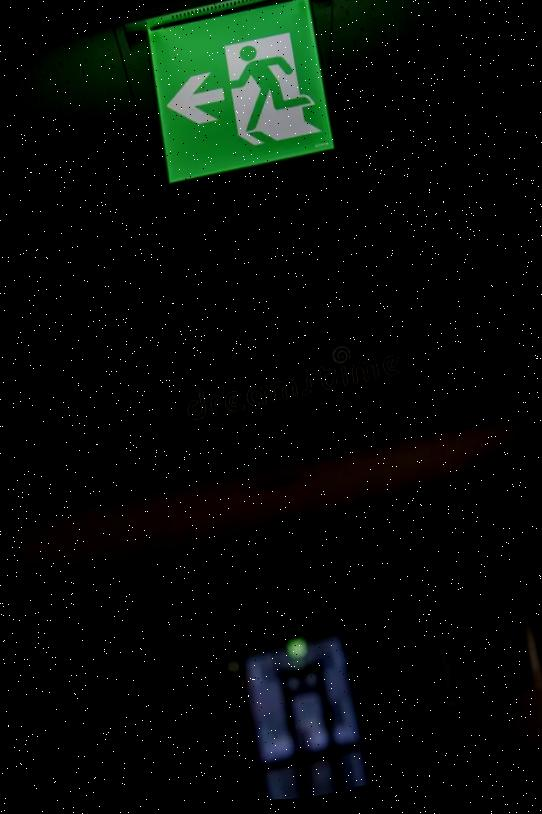emergency_exit: (144, 0, 336, 184)
